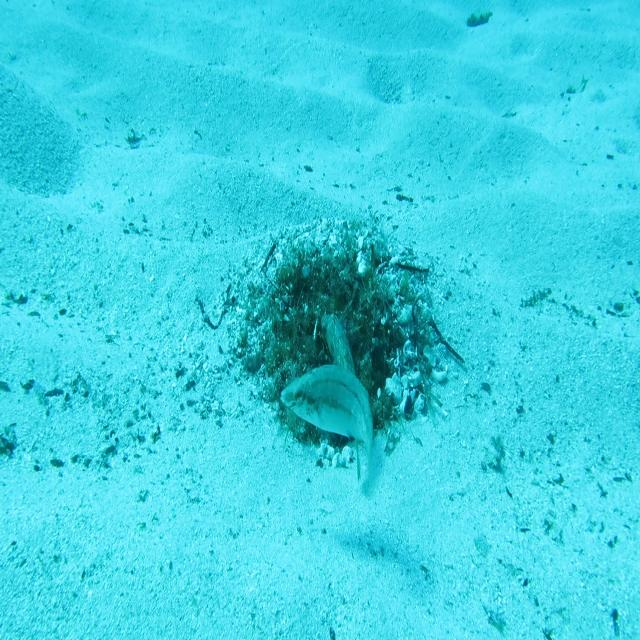FAN: (319, 308, 363, 483)
core_nest: (306, 271, 359, 305)
female: (278, 361, 377, 495)
nest: (223, 218, 455, 490)
vegetation: (466, 10, 496, 31)
